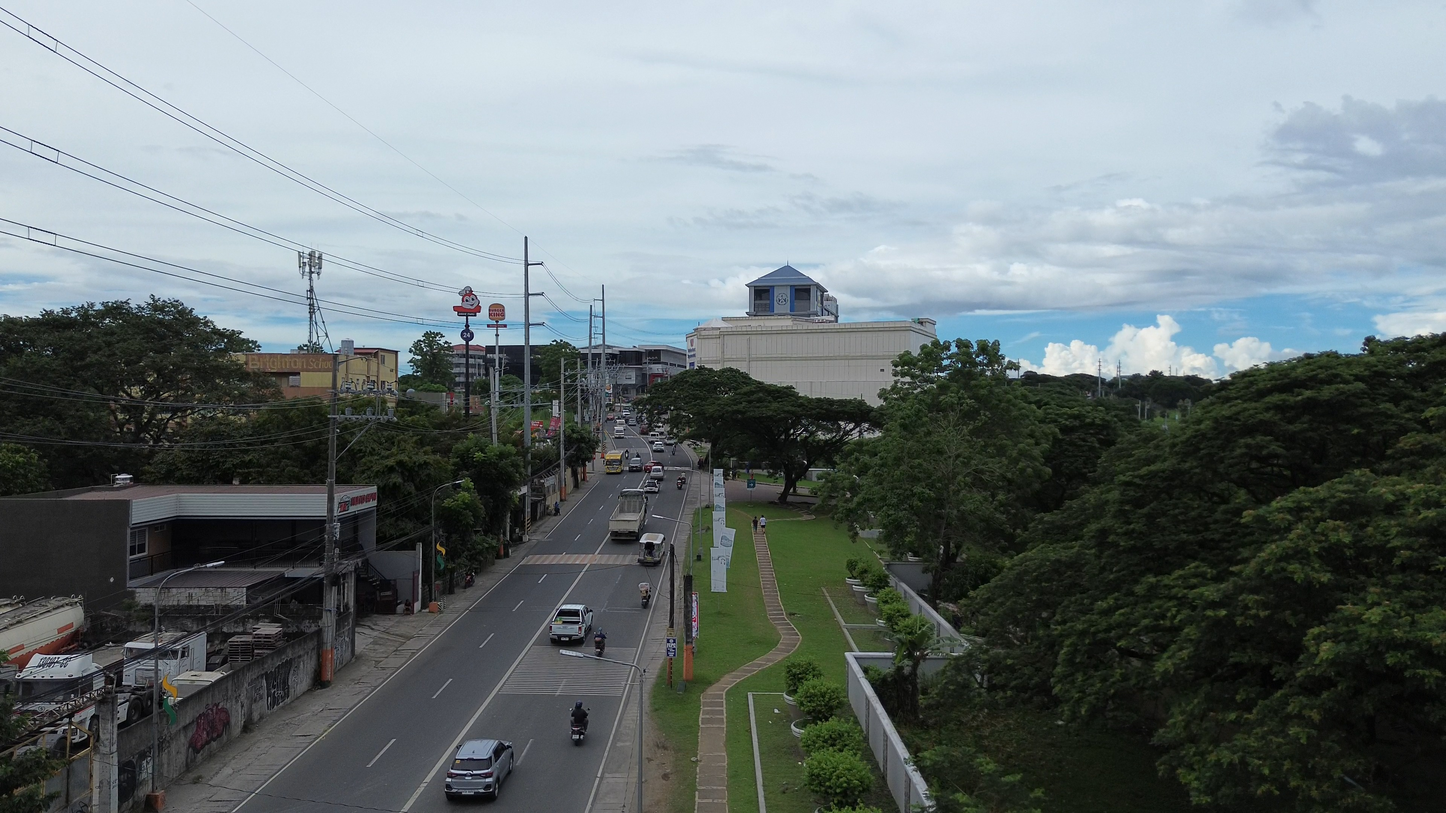car: (642, 478, 659, 493), (651, 440, 665, 452)
motorcycle: (570, 722, 586, 745), (676, 477, 685, 490)
vehicle: (15, 653, 105, 751), (0, 596, 84, 669), (122, 632, 206, 686), (444, 740, 514, 799), (609, 489, 648, 541), (550, 604, 592, 642), (637, 533, 666, 566), (604, 451, 623, 474), (648, 462, 665, 481), (642, 478, 659, 493), (628, 454, 643, 471), (613, 423, 625, 438), (651, 440, 665, 451), (676, 475, 686, 490), (649, 430, 664, 439), (627, 416, 636, 425), (606, 412, 615, 420)
